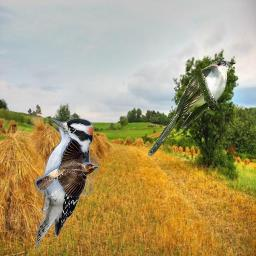Cuckoo: (147, 59, 236, 158)
Swallow: (35, 138, 100, 197)
Woodpecker: (35, 112, 99, 251)
